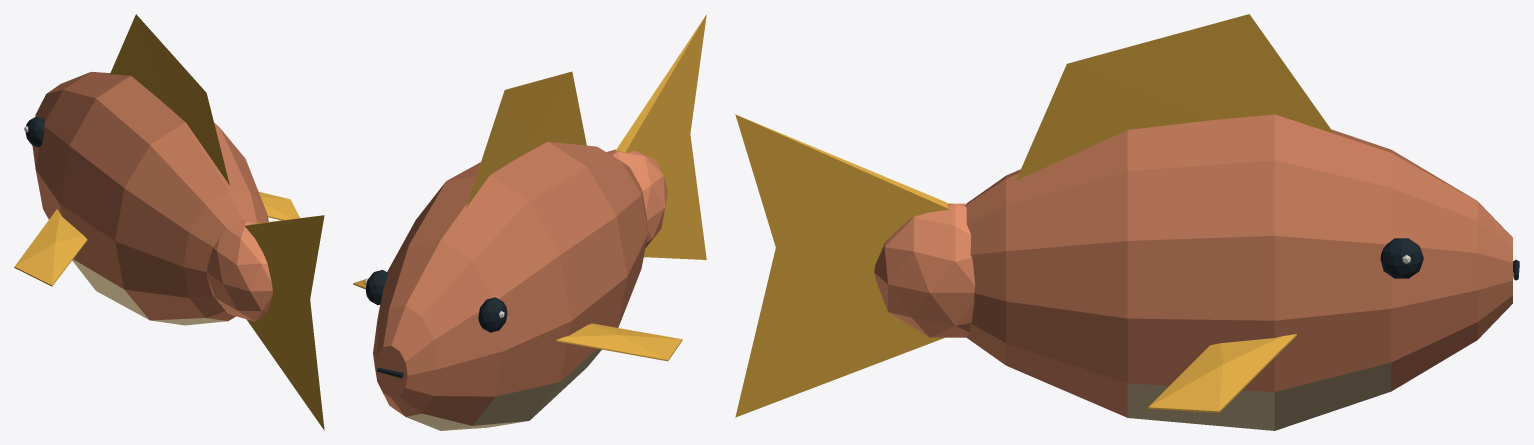
File: wild_fish.glb
The picture shows the model from 3 angles, left to right: view 1: azimuth 30°, elevation 25°; view 2: azimuth 150°, elevation 25°; view 3: azimuth 270°, elevation 25°; orthographic projection. The views are drawn at different scales.
Parts seen in each view (by area): view 1: continuous coral body and pale belly, tail wrist, pectoral paddle, pectoral paddle.001; view 2: continuous coral body and pale belly, tail wrist, pectoral paddle; view 3: continuous coral body and pale belly, tail wrist, pectoral paddle.001.
Part boxes in pixels (bbox=[...]): continuous coral body and pale belly: bbox=[24, 14, 268, 325]; tail wrist: bbox=[207, 215, 324, 430]; pectoral paddle: bbox=[14, 209, 87, 286]; pectoral paddle.001: bbox=[259, 192, 299, 220]; continuous coral body and pale belly: bbox=[364, 71, 648, 430]; tail wrist: bbox=[606, 14, 706, 259]; pectoral paddle: bbox=[556, 323, 682, 361]; continuous coral body and pale belly: bbox=[965, 14, 1519, 430]; tail wrist: bbox=[735, 114, 975, 417]; pectoral paddle.001: bbox=[1148, 334, 1296, 412].
Size of the model in its own units: 0.442 by 0.445 by 0.7735.
